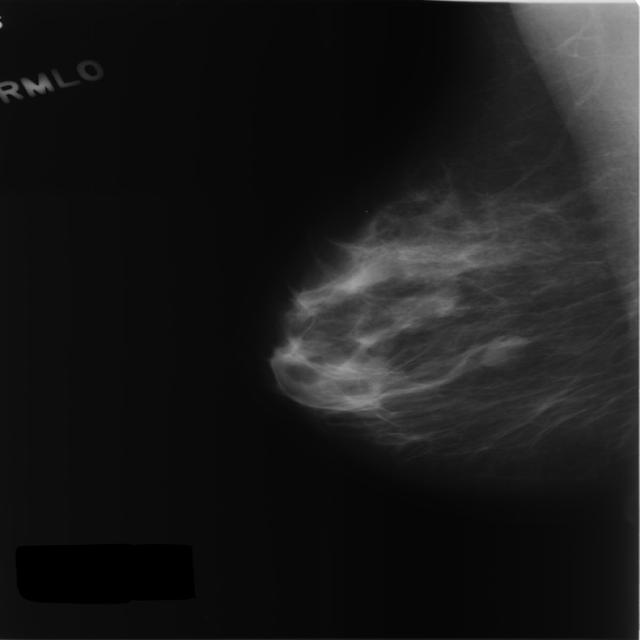tumour: (479, 333, 527, 366)
